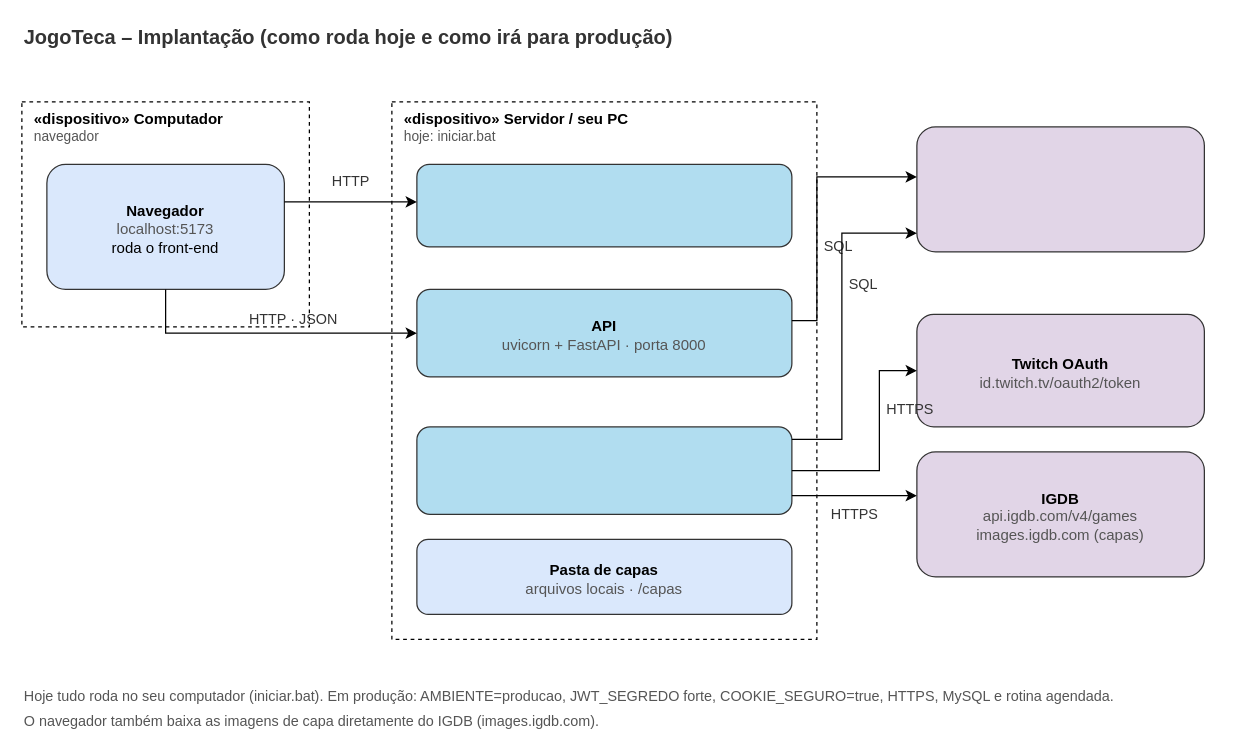
Some shapes in this 1244 by 755 pixel diagram are drawn without their labels. Each missing label, with the centre of its shape:
"Banco de dados SQLite (hoje) MySQL via docker-compose" belongs at (1060,189).
"Front-end Vite (dev) · arquivos estáticos (prod)" belongs at (604,205).
"Rotina de lançamentos atualizar_lancamentos.bat · agendar na produção" belongs at (604,470).
